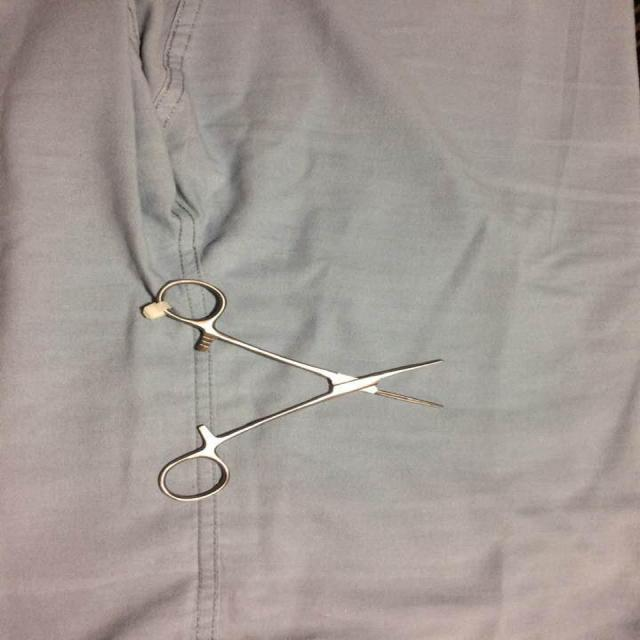Hemostat: (148, 274, 454, 504)
